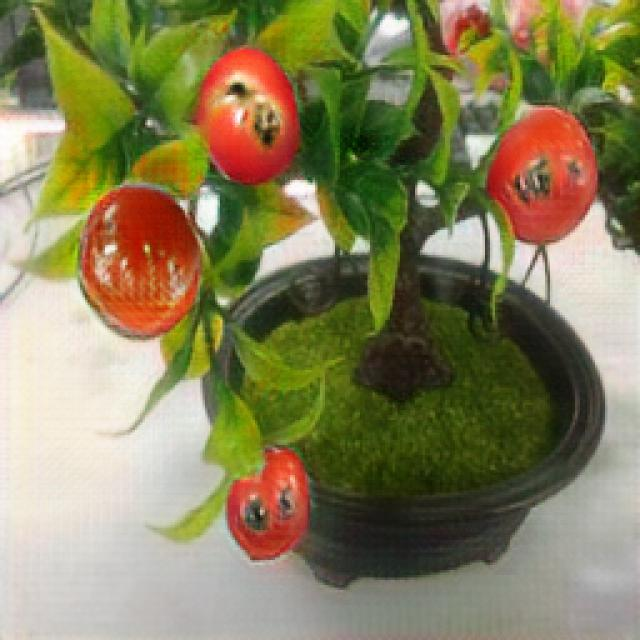overripe tomato: (80, 185, 199, 344), (492, 105, 594, 242), (197, 42, 291, 188), (226, 450, 314, 556)
